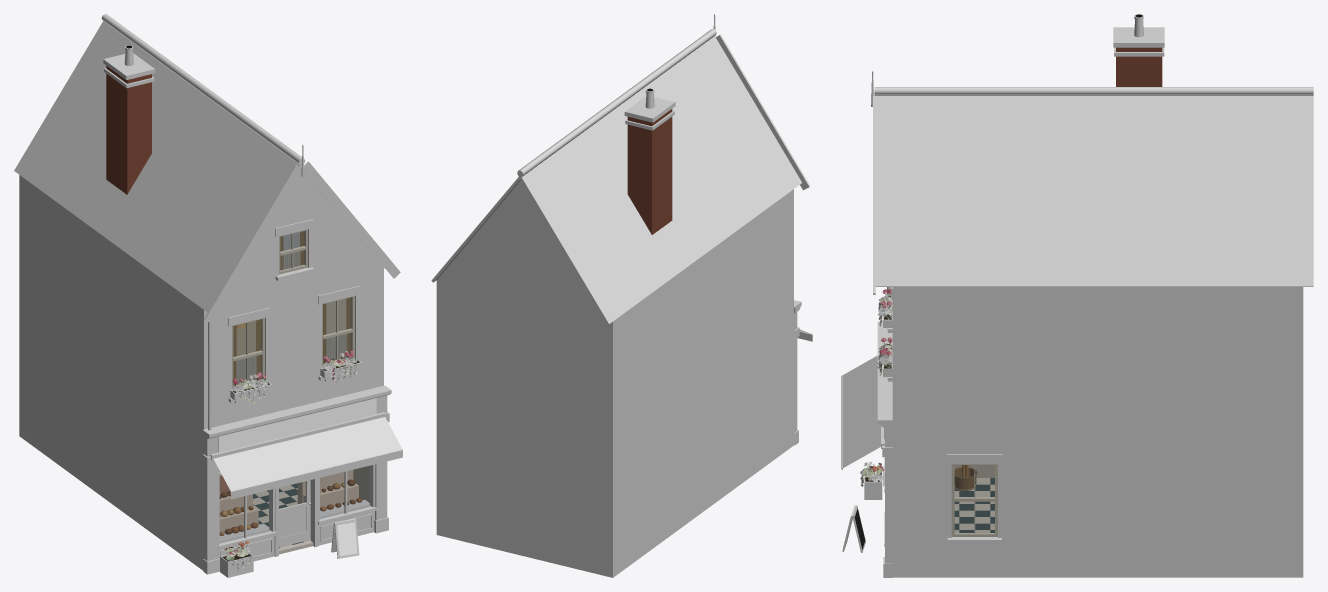
Rendered from Opposite_Opposite1_5.glb.
3 views of the same model, side by side, from view 1: azimuth 30°, elevation 25°; view 2: azimuth 150°, elevation 25°; view 3: azimuth 270°, elevation 25° (orthographic). The views are drawn at different scales.
Visible parts, largest first — view 1: Opposite_Opposite1_5; view 2: Opposite_Opposite1_5; view 3: Opposite_Opposite1_5.
Part boxes in pixels (x1=…): Opposite_Opposite1_5: x1=14, y1=14, x2=402, y2=577; Opposite_Opposite1_5: x1=431, y1=14, x2=812, y2=577; Opposite_Opposite1_5: x1=841, y1=14, x2=1313, y2=577.
Size of what is drawn, in the model's own units: 4.9 by 10.39 by 9.2.
